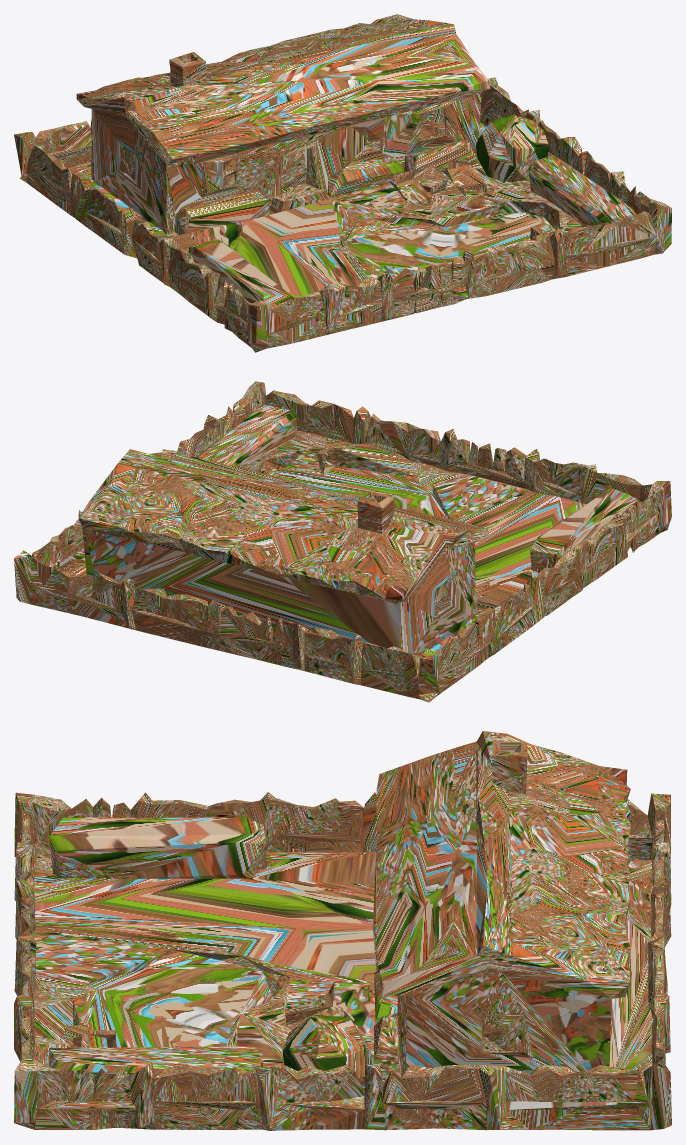
The model's file is town_house_pool.glb.
The picture shows the model from 3 angles, top to bottom: view 1: azimuth 30°, elevation 25°; view 2: azimuth 150°, elevation 25°; view 3: azimuth 270°, elevation 25°; orthographic projection. The views are drawn at different scales.
Parts seen in each view (by area): view 1: normalize; view 2: normalize; view 3: normalize.
Boxes of the visible parts, left/top/right/bottom form: normalize: left=14, top=14, right=671, bottom=352; normalize: left=14, top=381, right=671, bottom=702; normalize: left=14, top=731, right=671, bottom=1130.
Size of the model in its own units: 1 by 0.3108 by 0.9999.
1 material, 1 textured.
